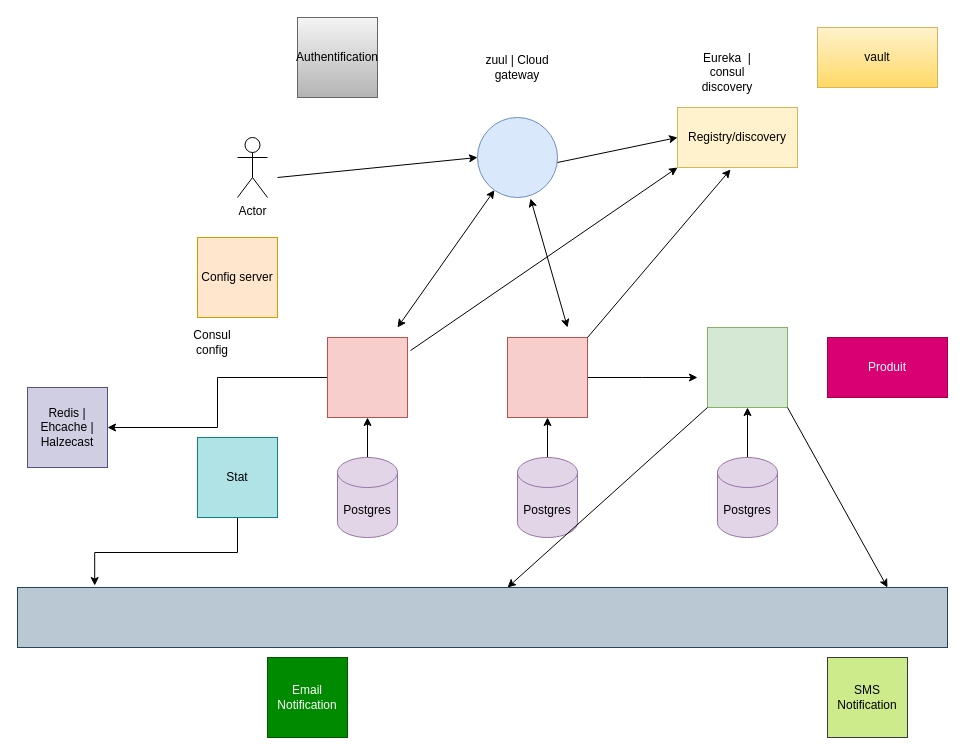
Some shapes in this 965 by 755 pixel diagram are drawn without their labels. Here are the shapes that lost their labels. From the top down, the centre of each, then its label:
At pixel 517 157: "Gateway".
At pixel 367 377: "Customer service1".
At pixel 547 377: "Customer service2".
At pixel 747 367: "Transaction".
At pixel 482 617: "Broker (RabbitMq | Kafka)".
